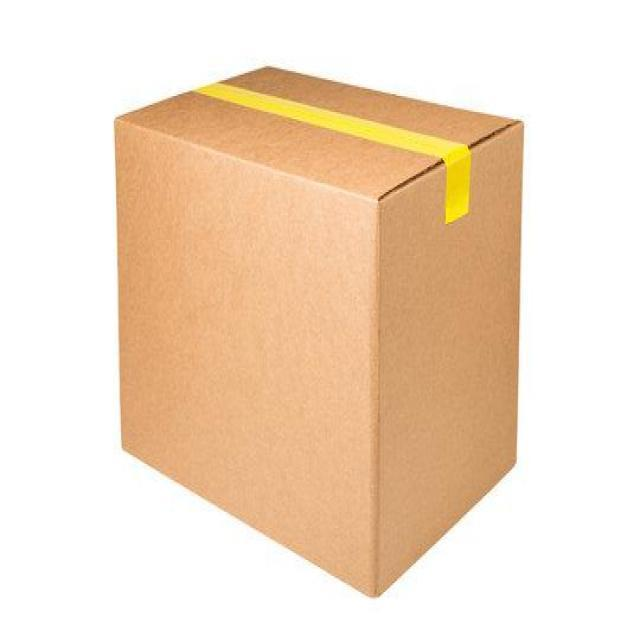box: (102, 51, 532, 601)
